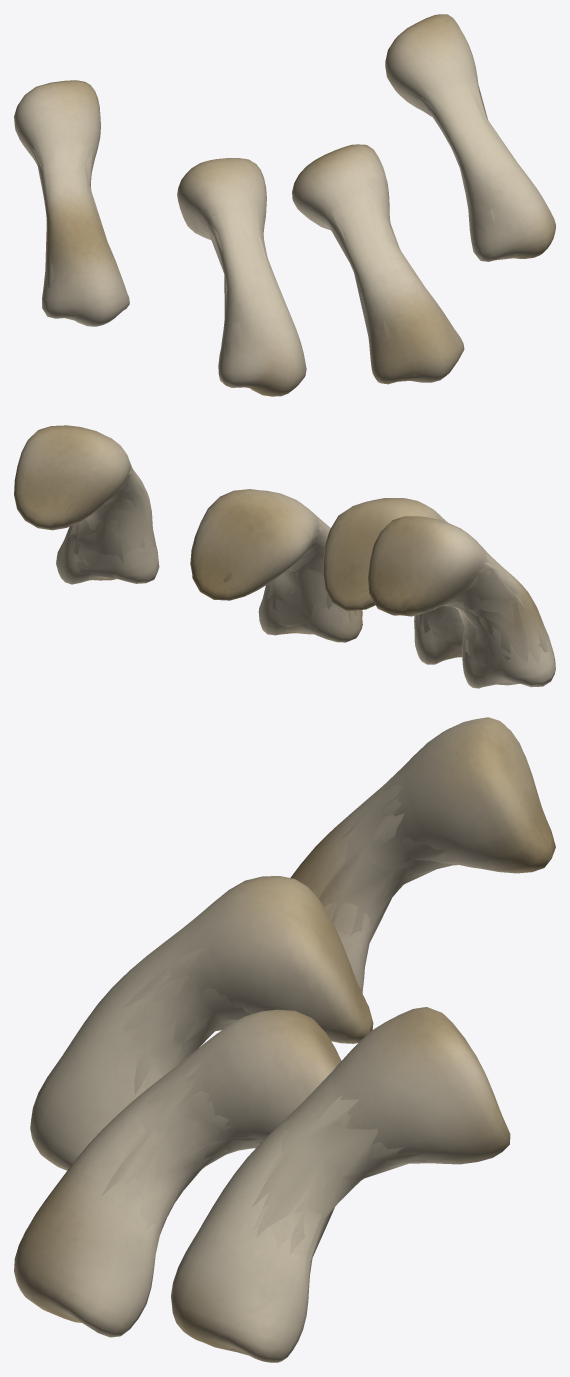
The model's file is BR 2nd Phalanx.fbx.
3 renders of one model, top to bottom at view 1: azimuth 30°, elevation 25°; view 2: azimuth 150°, elevation 25°; view 3: azimuth 270°, elevation 25°, orthographic. The views are drawn at different scales.
Parts seen in each view (by area): view 1: BR 2nd Phalanx high, BR 2nd Phalanx, BR 2nd Phalanx low; view 2: BR 2nd Phalanx high, BR 2nd Phalanx, BR 2nd Phalanx low; view 3: BR 2nd Phalanx high, BR 2nd Phalanx, BR 2nd Phalanx low.
Part boxes in pixels (left/top/right/bottom): BR 2nd Phalanx high: left=14, top=14, right=555, bottom=396; BR 2nd Phalanx: left=30, top=84, right=513, bottom=391; BR 2nd Phalanx low: left=28, top=73, right=517, bottom=357; BR 2nd Phalanx high: left=14, top=425, right=555, bottom=688; BR 2nd Phalanx: left=50, top=461, right=545, bottom=687; BR 2nd Phalanx low: left=69, top=470, right=548, bottom=662; BR 2nd Phalanx high: left=14, top=717, right=555, bottom=1362; BR 2nd Phalanx: left=40, top=767, right=547, bottom=1355; BR 2nd Phalanx low: left=101, top=813, right=456, bottom=1355.
Bounding box in the file's own units: 7.79 × 3.96 × 4.78.
